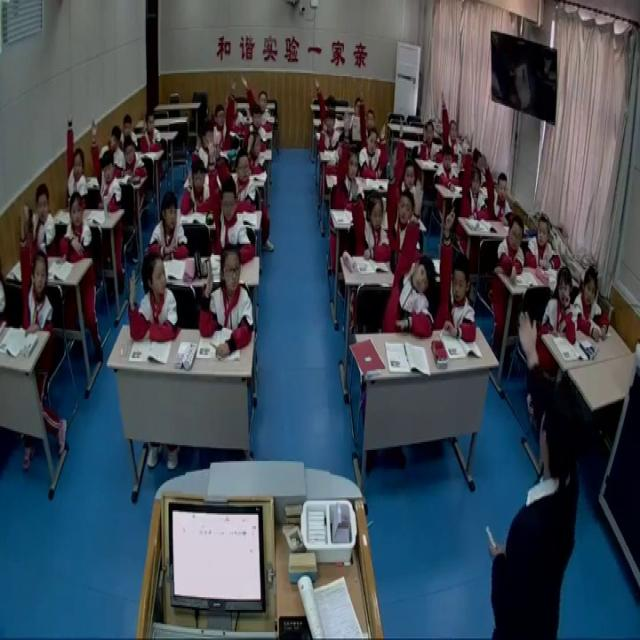focused: (541, 260, 578, 343), (148, 193, 191, 260), (574, 264, 609, 338), (62, 193, 96, 269), (525, 210, 564, 274), (496, 217, 527, 278), (31, 184, 56, 250), (431, 145, 462, 192), (123, 135, 149, 184), (104, 121, 127, 169), (197, 119, 218, 166), (140, 114, 162, 152), (119, 110, 137, 148)
raising_hand: (386, 172, 434, 336), (204, 128, 255, 264), (197, 244, 257, 350), (13, 195, 53, 338), (438, 204, 478, 344), (128, 250, 179, 346), (382, 141, 419, 256), (346, 167, 388, 255), (334, 106, 360, 209), (90, 119, 119, 209), (392, 115, 417, 206), (65, 105, 87, 207), (483, 150, 513, 224), (240, 69, 274, 132), (461, 135, 486, 219), (358, 122, 390, 182), (178, 154, 209, 210), (213, 79, 237, 151), (314, 74, 339, 134), (439, 94, 462, 159), (242, 100, 269, 154), (358, 84, 379, 145), (316, 108, 339, 152), (417, 120, 439, 160)
